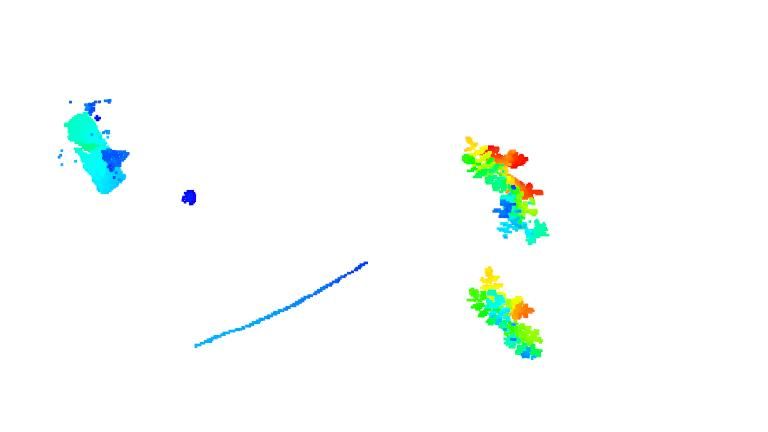chickpea: (467, 263, 545, 363), (458, 135, 542, 201), (496, 192, 551, 244)
